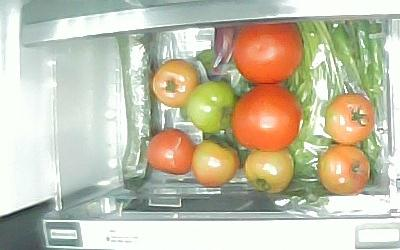tomato: (231, 84, 303, 151), (232, 23, 305, 84), (185, 79, 235, 134), (317, 145, 371, 195), (151, 58, 202, 109), (325, 93, 373, 145), (192, 137, 239, 187), (145, 129, 193, 176), (243, 149, 295, 192)
